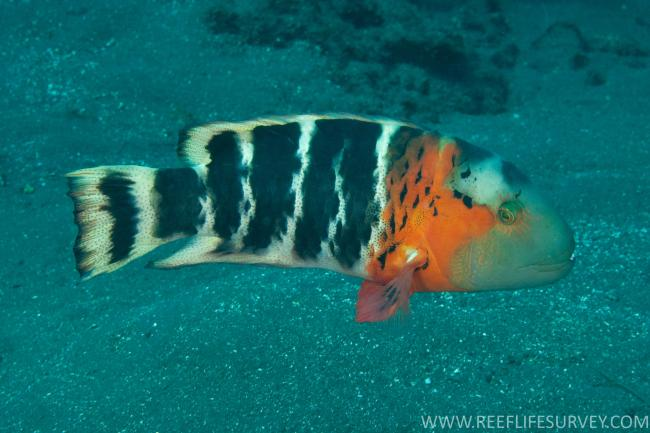fish: (66, 113, 577, 323)
